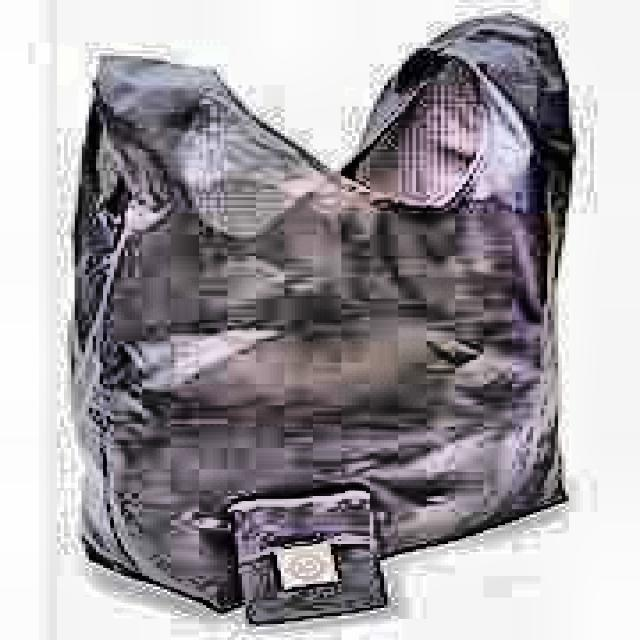Plastic: (50, 12, 640, 634)
